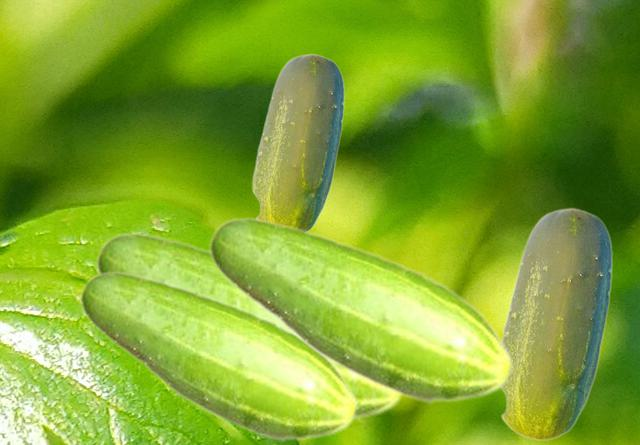cucumber: (95, 231, 404, 423), (208, 216, 513, 404), (79, 270, 358, 442), (500, 207, 611, 440), (251, 53, 343, 230)
